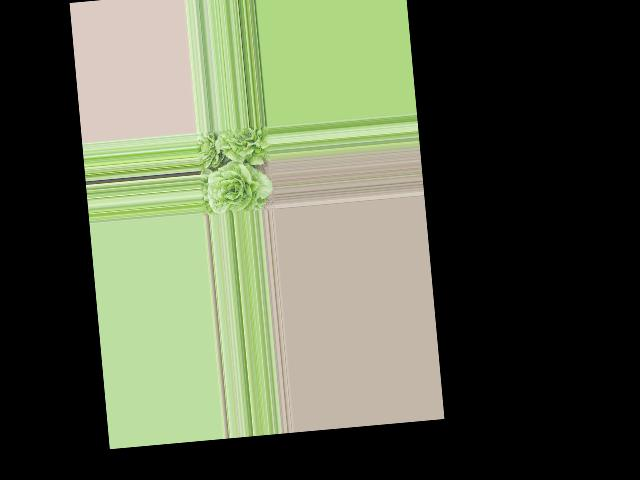lettuce: (213, 125, 269, 163)
